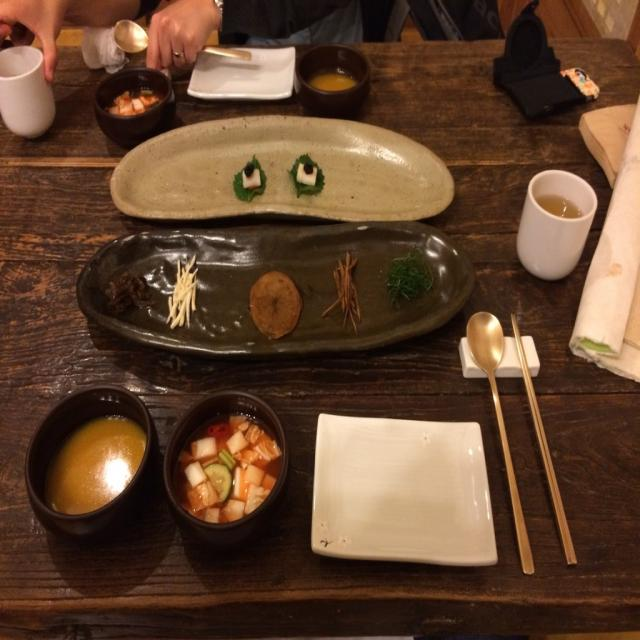Tea: (536, 195, 582, 219)
